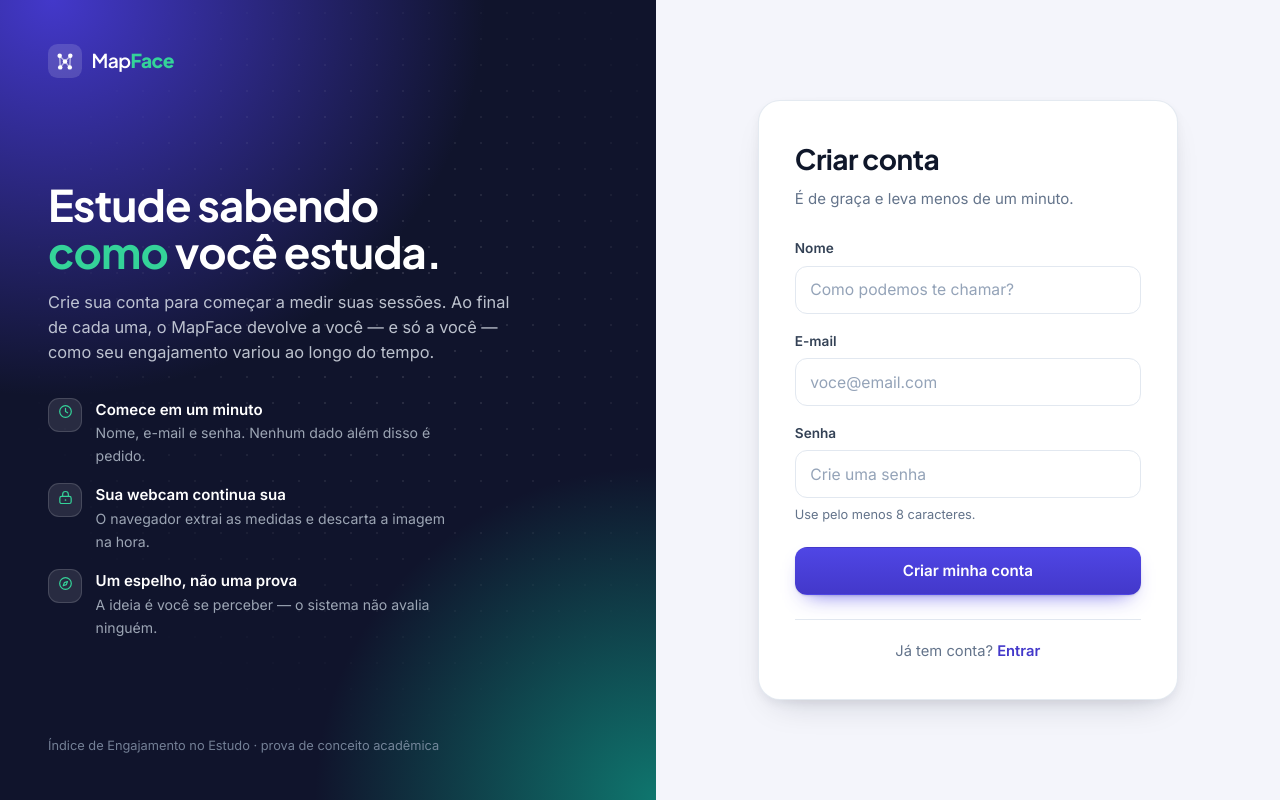
RegistroComponent › avisa especificamente quando o e-mail já está cadastrado
In the field labelled "Nome": (968, 290) [795,266,1141,314], type "Ana Souza"
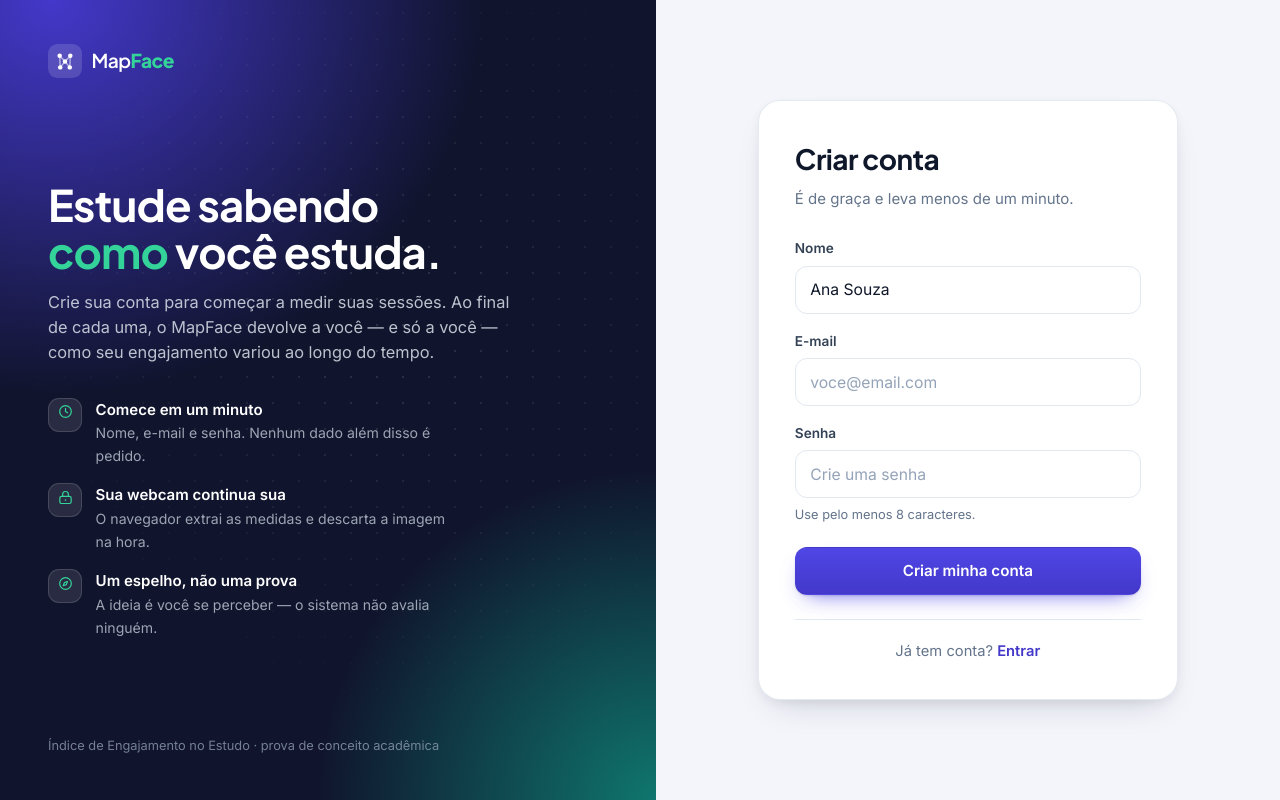
In the field labelled "E-mail": (968, 382) [795,358,1141,406], type "ana@exemplo.com"
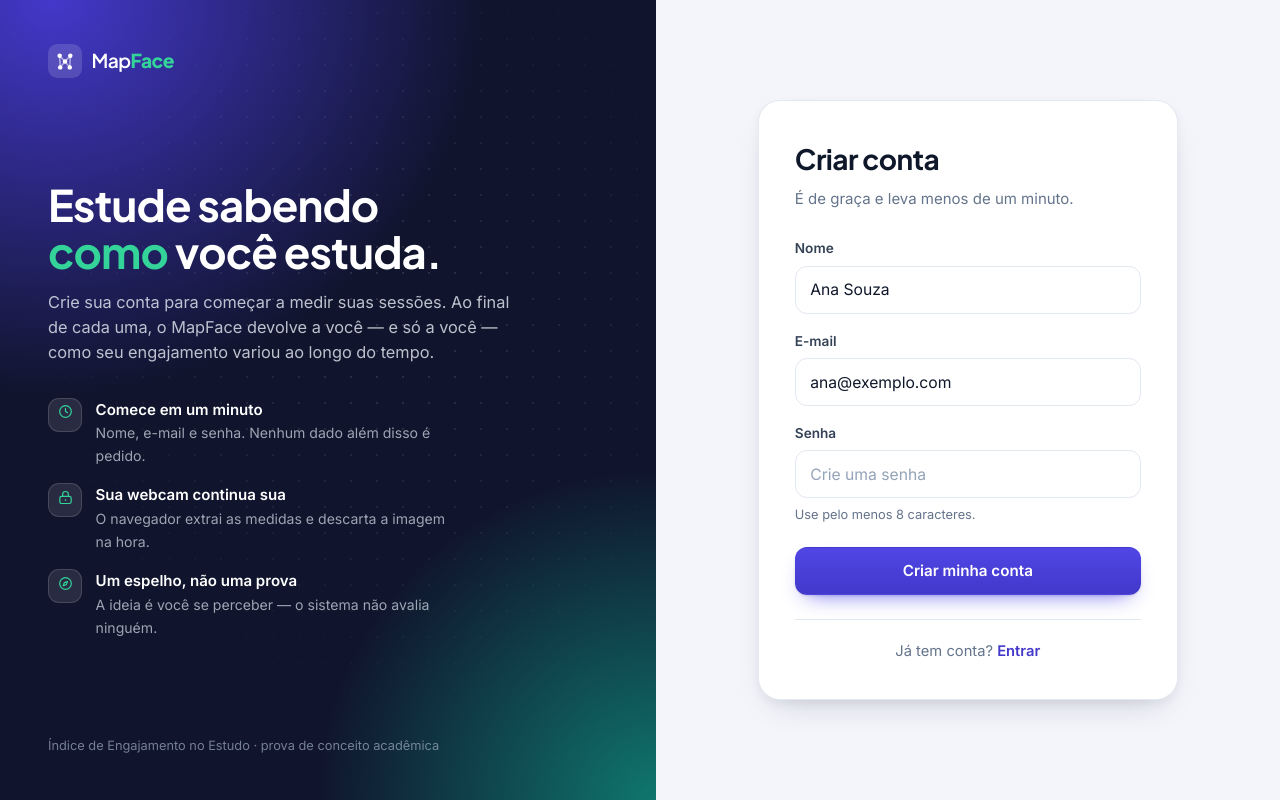
In the password field labelled "Senha": (968, 474) [795,450,1141,498], type "senhaSegura123"
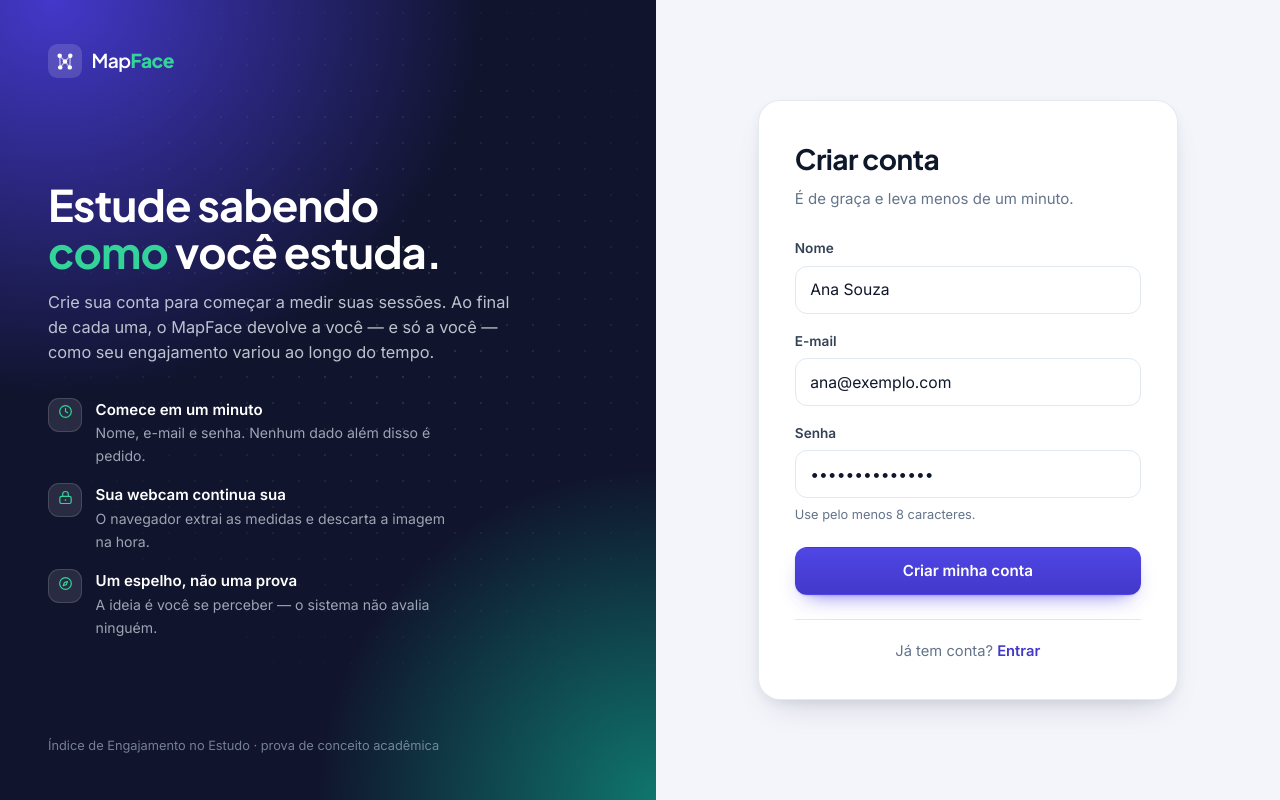
Submit the form, box [795,238,1141,595]
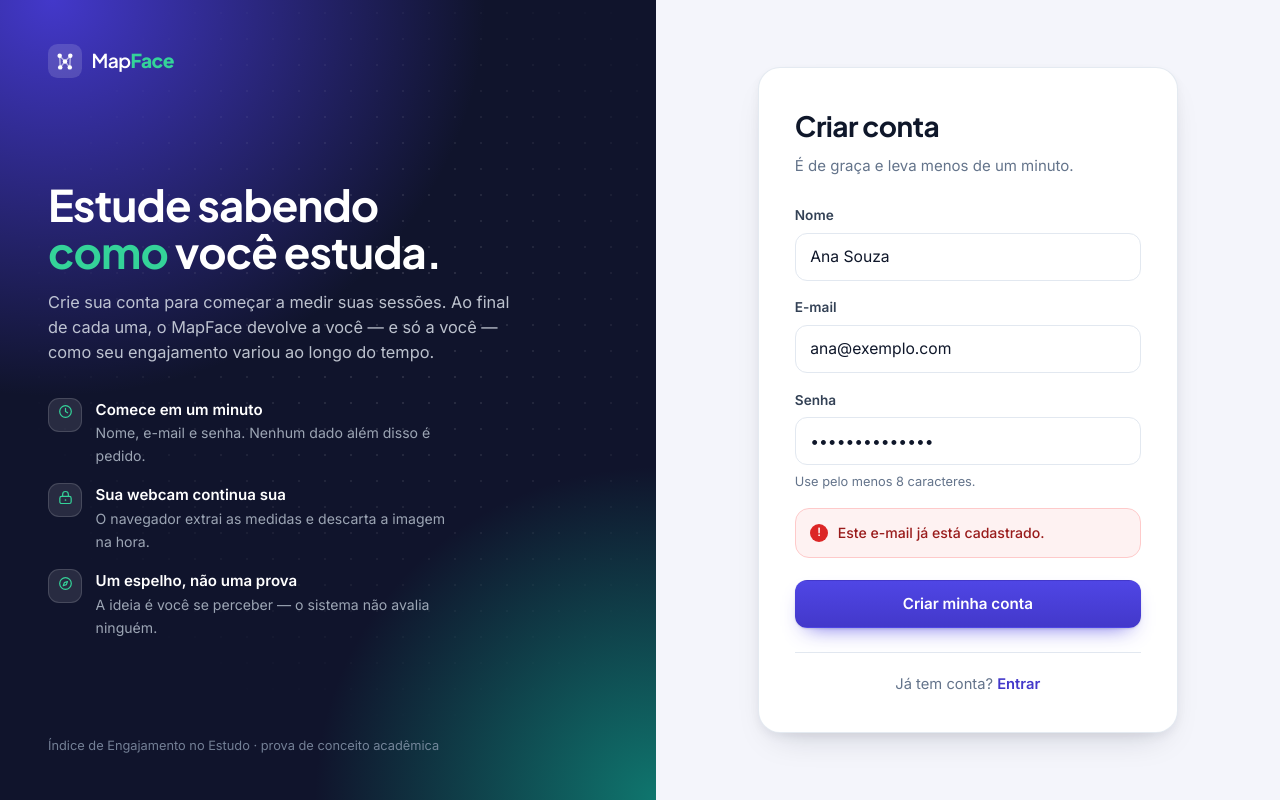
Expected: the message with class "erro-geral" reads "Este e-mail já está cadastrado.", [838,524,1045,541]
